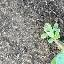Purslane: (39, 20, 64, 64)
